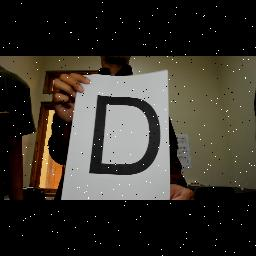d: (87, 92, 163, 178)
